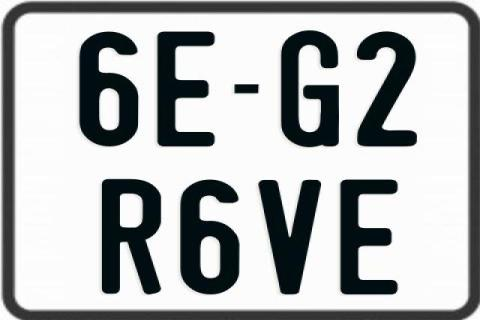0: (356, 30, 416, 148), (78, 30, 140, 144), (180, 179, 239, 297)
E: (340, 180, 402, 298), (155, 31, 213, 149)
G: (281, 29, 342, 147)
R: (100, 178, 164, 298)
V: (256, 179, 324, 293)
